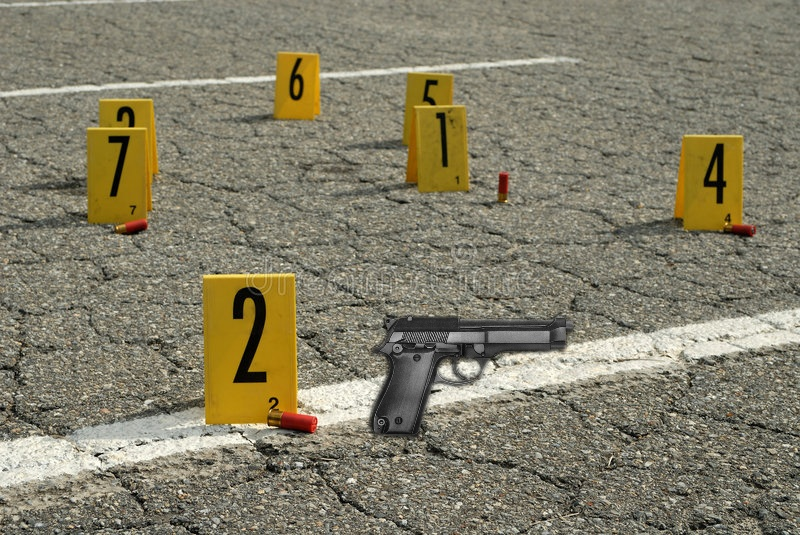gun.png: (369, 310, 579, 439)
